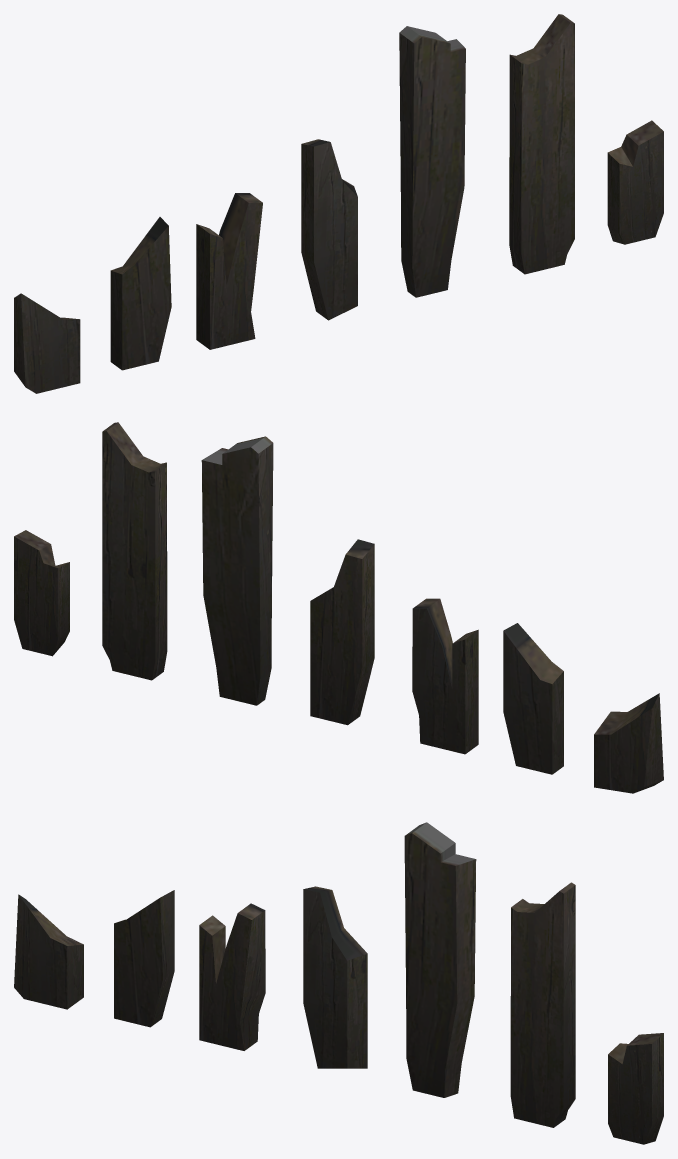
The model's file is wood_fence001f.fbx.
The picture shows the model from 3 angles, top to bottom: view 1: azimuth 30°, elevation 25°; view 2: azimuth 150°, elevation 25°; view 3: azimuth 330°, elevation 25°; orthographic projection.
Parts seen in each view (by area): view 1: fence_wood001f; view 2: fence_wood001f; view 3: fence_wood001f.
Boxes of the visible parts, x1,y1,x2,y2 form: fence_wood001f: (14, 14, 663, 393); fence_wood001f: (14, 422, 663, 793); fence_wood001f: (14, 822, 663, 1144).
Bounding box in the file's own units: 201 × 78.72 × 9.79.
